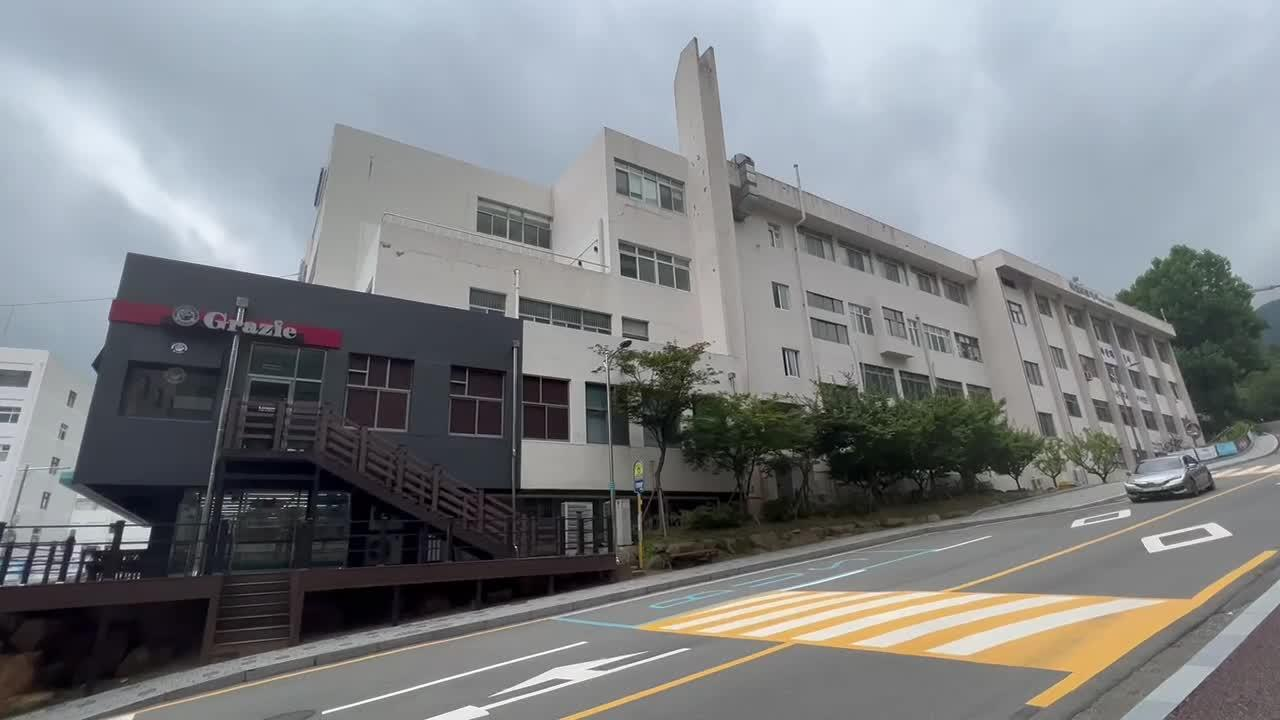building: (87, 102, 1079, 503)
